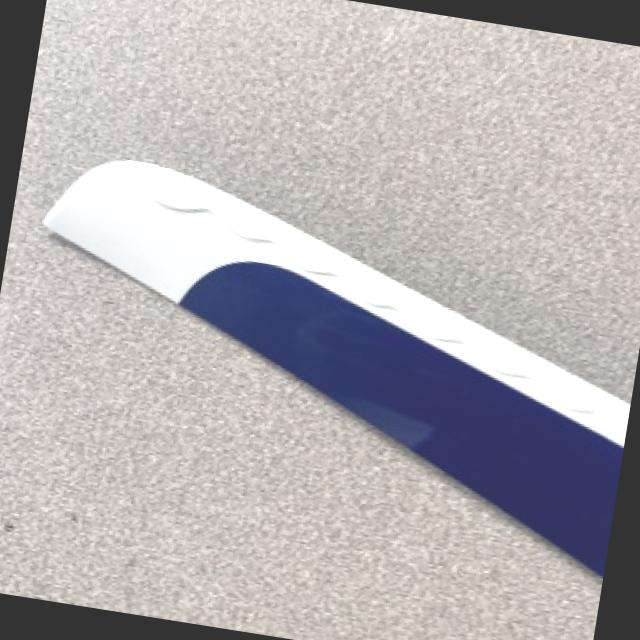healthy: (46, 159, 631, 572)
